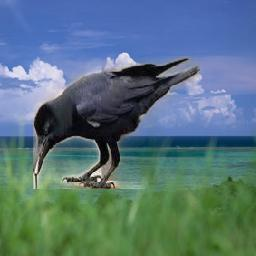Crow: (34, 57, 201, 190)
